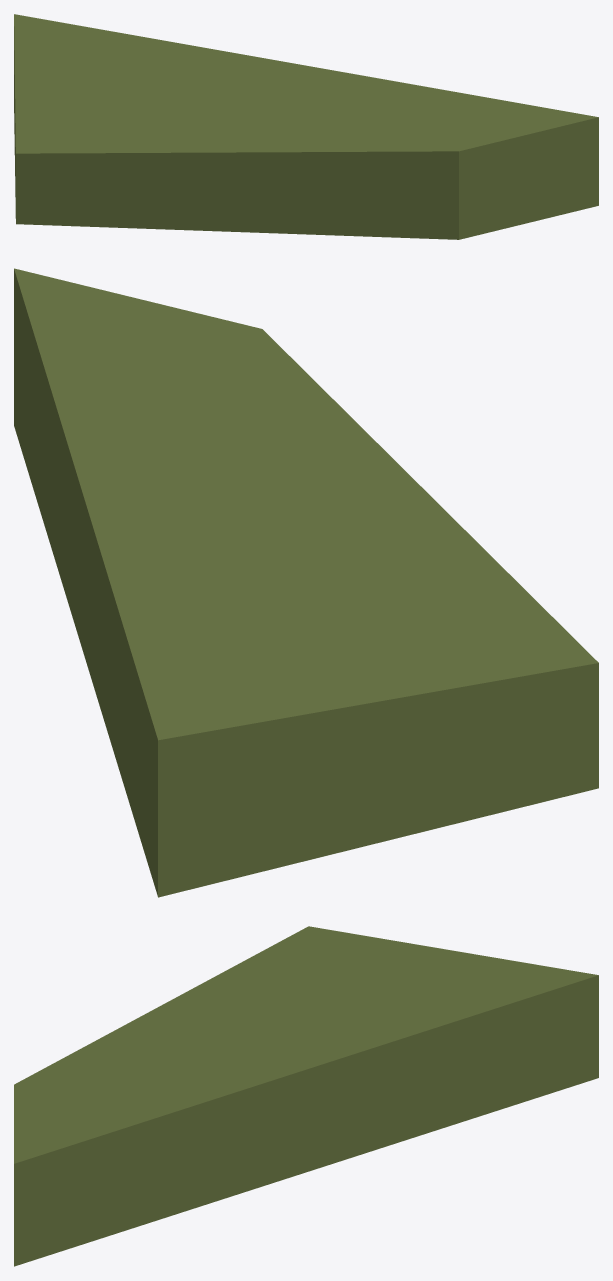
The model's file is ground_03.fbx.
The picture shows the model from 3 angles, top to bottom: view 1: azimuth 30°, elevation 25°; view 2: azimuth 150°, elevation 25°; view 3: azimuth 270°, elevation 25°; orthographic projection. The views are drawn at different scales.
Parts seen in each view (by area): view 1: ground_03; view 2: ground_03; view 3: ground_03.
Part boxes in pixels (left/top/right/bottom): ground_03: left=14, top=14, right=598, bottom=239; ground_03: left=14, top=268, right=598, bottom=897; ground_03: left=14, top=926, right=598, bottom=1266.
Bounding box in the file's own units: 13.15 × 2.44 × 12.57.
